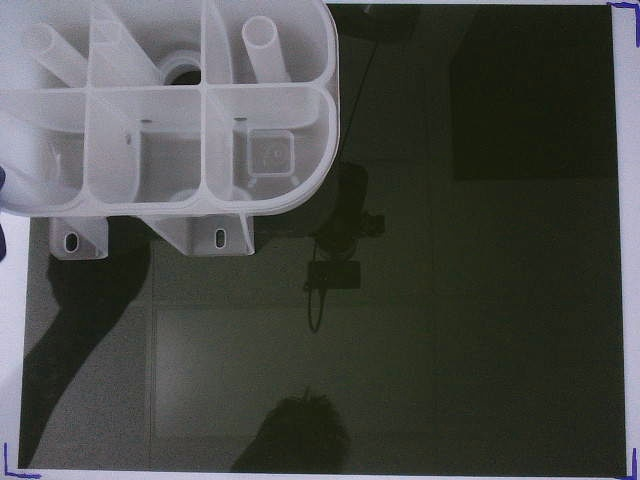reservoir_transparent_Under: (1, 1, 340, 257)
